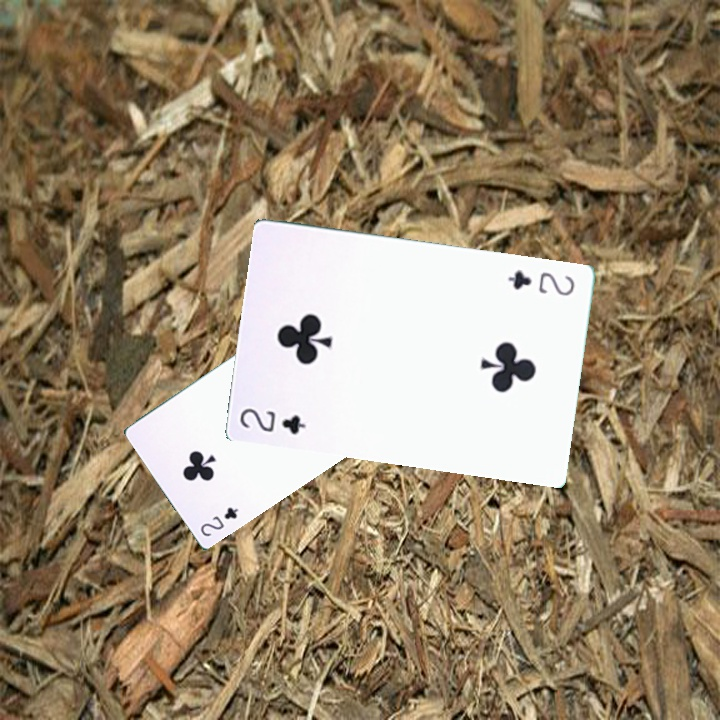2c: (504, 265, 577, 299), (235, 404, 309, 437), (196, 503, 241, 539)
